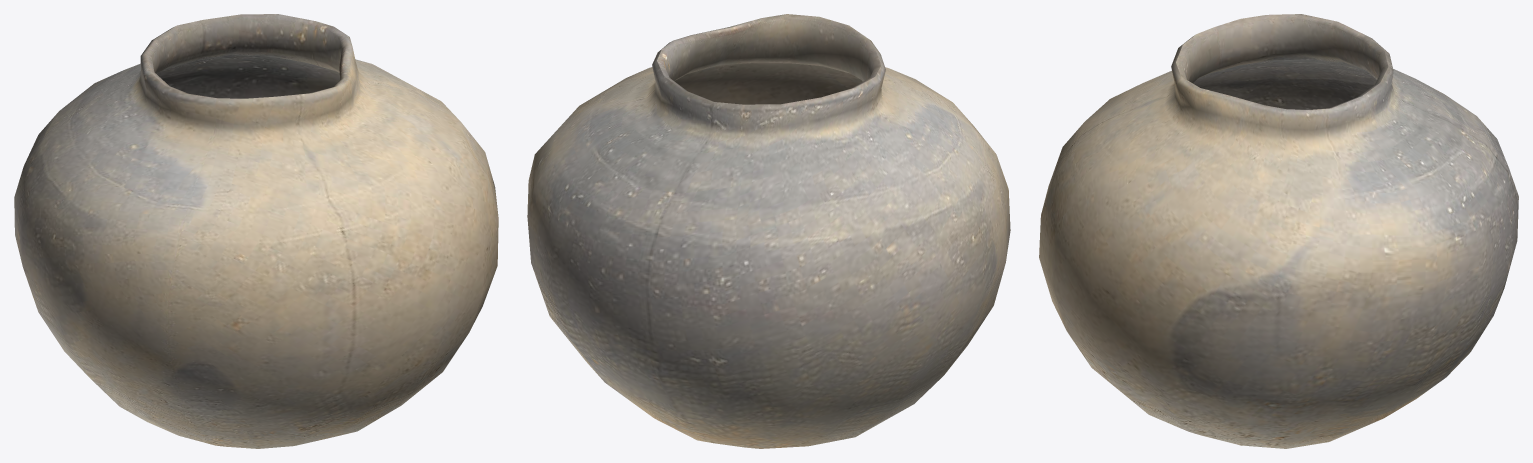
The model's file is antiquity8_81.fbx.
3 views of the same model, side by side, from view 1: azimuth 30°, elevation 25°; view 2: azimuth 150°, elevation 25°; view 3: azimuth 270°, elevation 25° (orthographic).
Visible parts, largest first — view 1: 0515; view 2: 0515; view 3: 0515.
Boxes of the visible parts, box(x1,y1,x2,y2) form: 0515: box(14, 14, 498, 448); 0515: box(527, 14, 1010, 448); 0515: box(1039, 14, 1518, 448).
Bounding box in the file's own units: 38.71 × 31.68 × 39.01.
Materials: 1 (1 with a texture image).
